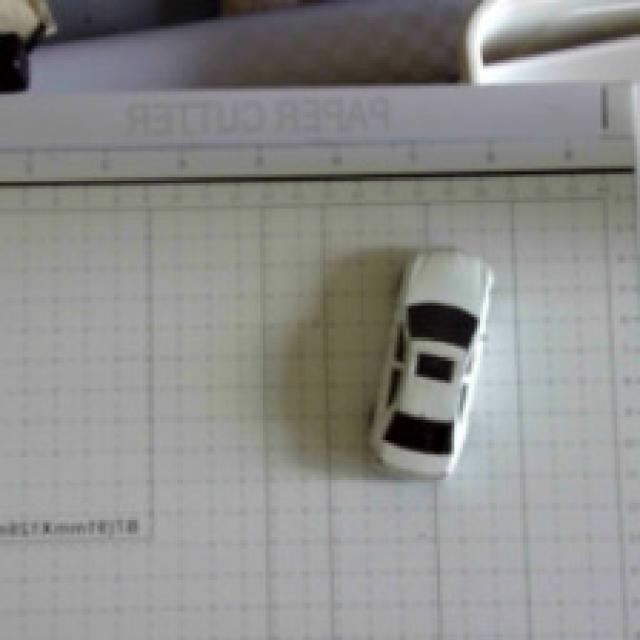Grey Car: (338, 214, 562, 507)
